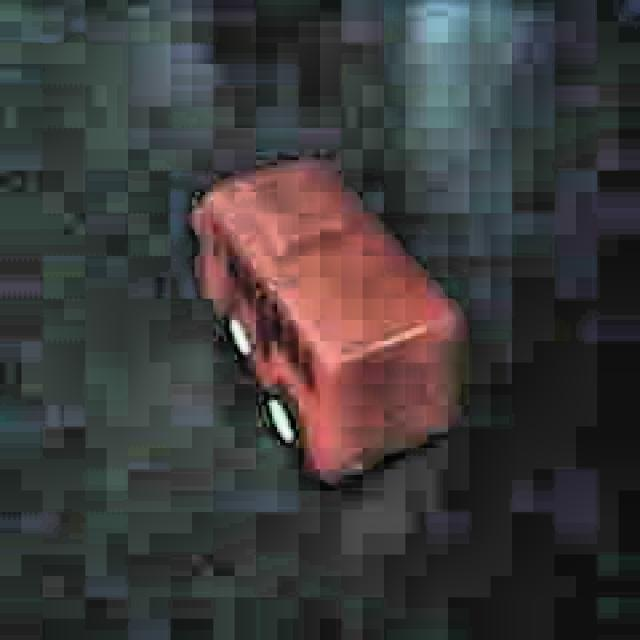bus: (183, 144, 464, 500)
